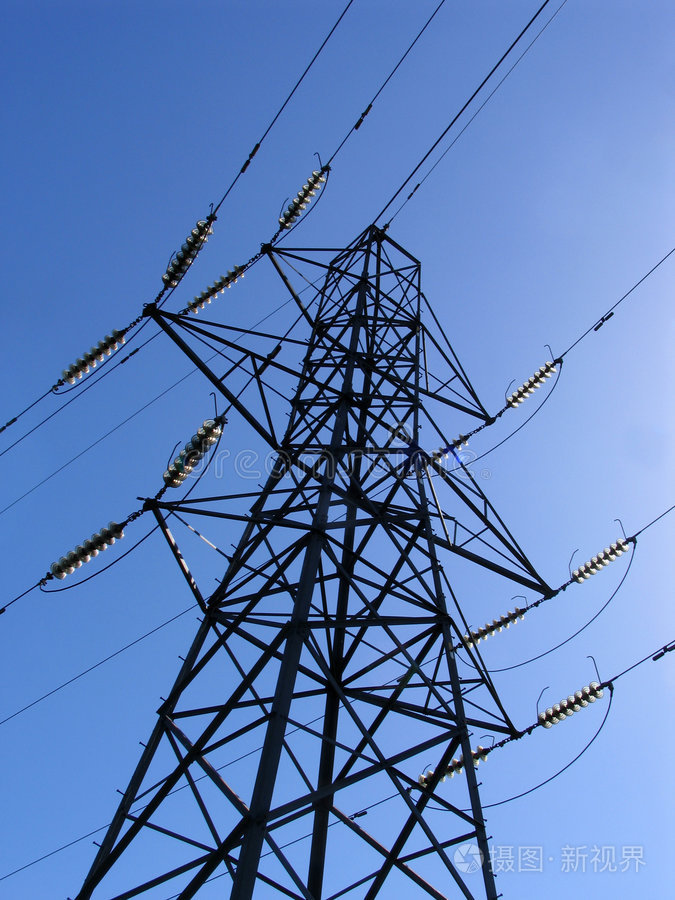insulator: (161, 419, 224, 485), (58, 328, 129, 386), (51, 523, 120, 578), (418, 740, 496, 784), (161, 219, 208, 285), (277, 169, 327, 228), (538, 682, 608, 723), (189, 264, 248, 310), (570, 537, 628, 581), (463, 606, 526, 644), (506, 360, 557, 405), (429, 430, 468, 462)
